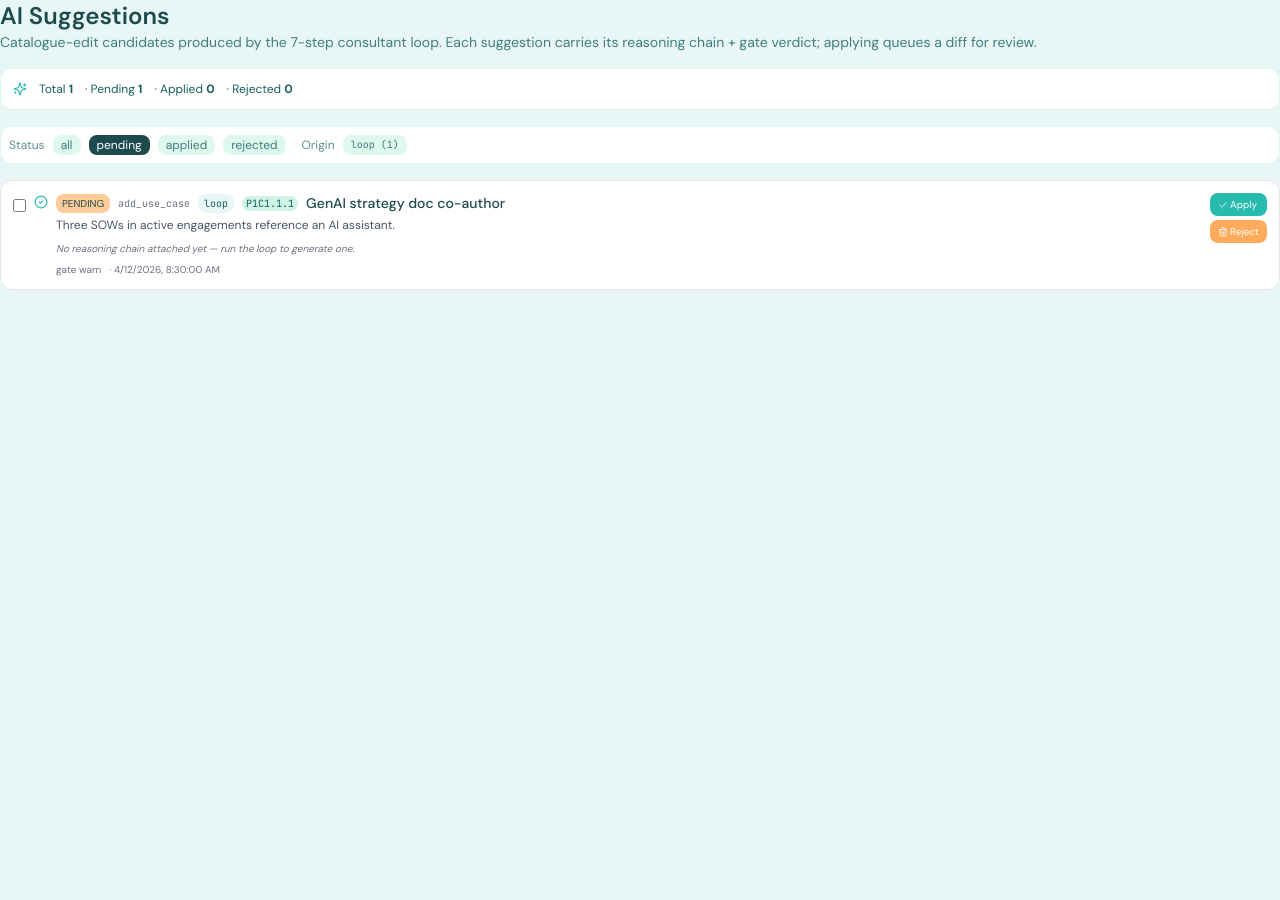
Test: AiSuggestions › bulk-reject modal requires a reason before submit
Later steps or results of the test are not shown.
Click the checkbox named "select suggestion sug-chain-x-0": click(20, 206) left=13, top=199, right=26, bottom=212
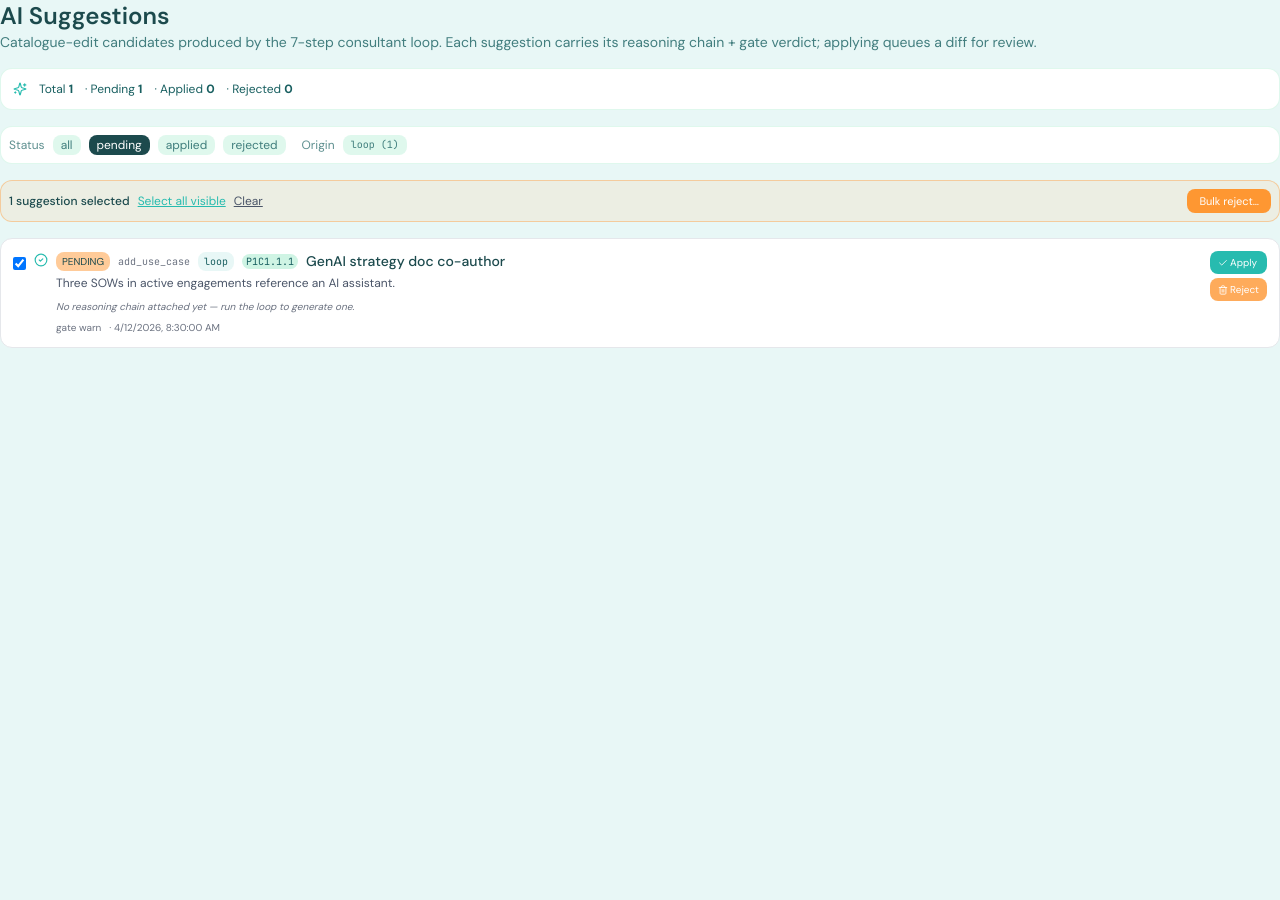
Click the button "Bulk reject…": click(1229, 201) left=1187, top=189, right=1271, bottom=213
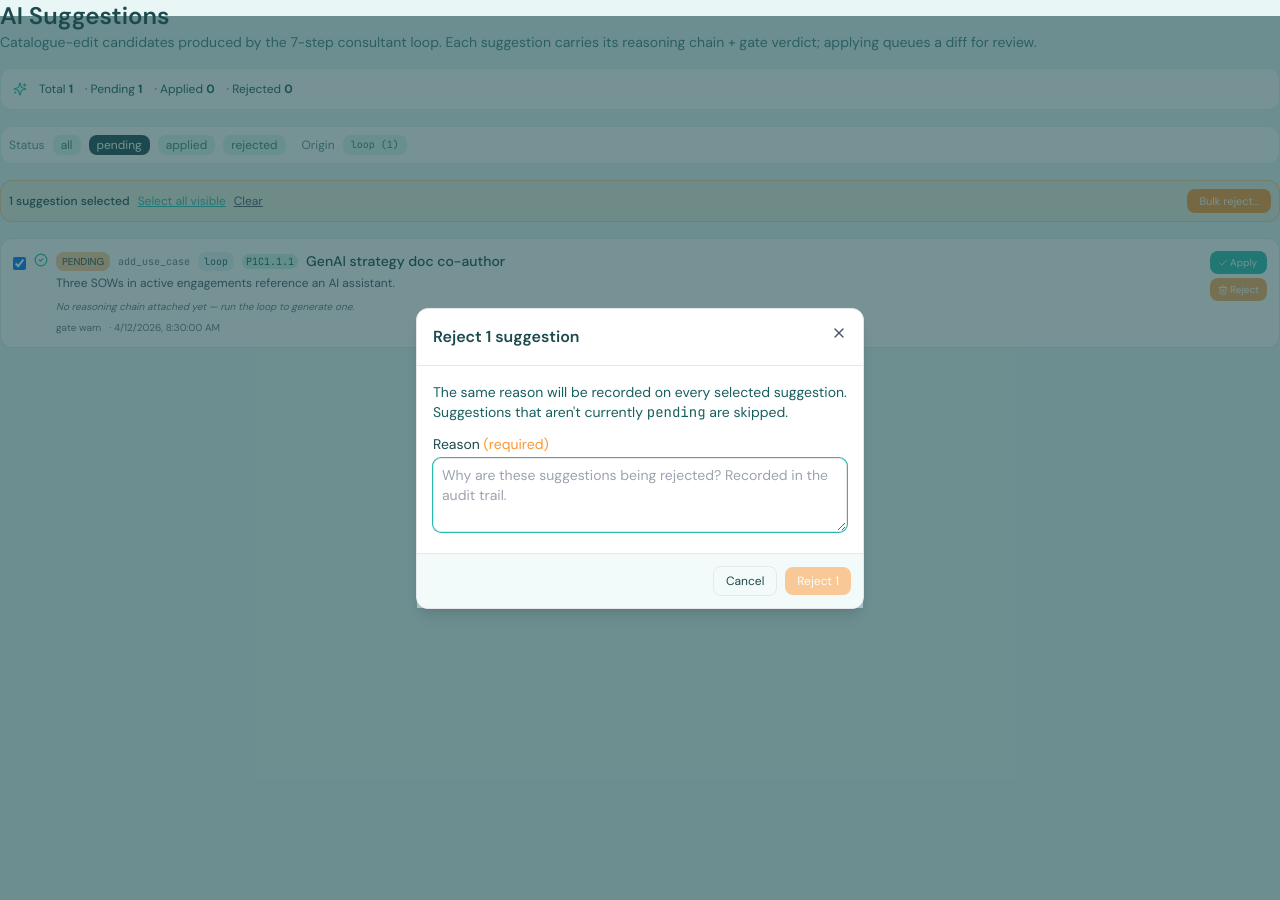
Expected: the button "Reject 1" is disabled, left=785, top=566, right=851, bottom=594
Replace the text in the text box with placeholder "Why are these suggestions" with "low-quality monthly batch": (640, 494) left=433, top=458, right=847, bottom=532
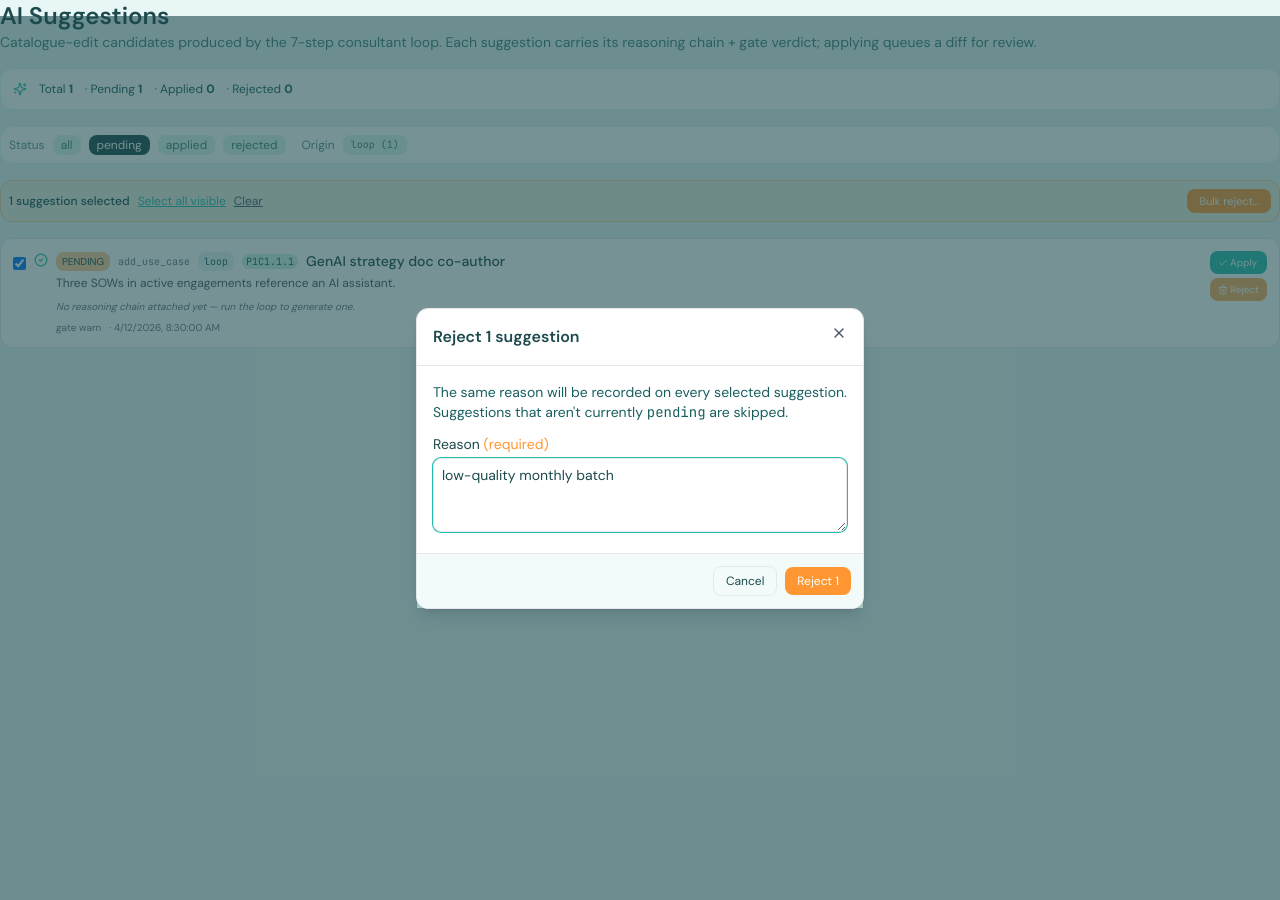
Expected: the button "Reject 1" is enabled, left=785, top=566, right=851, bottom=594
